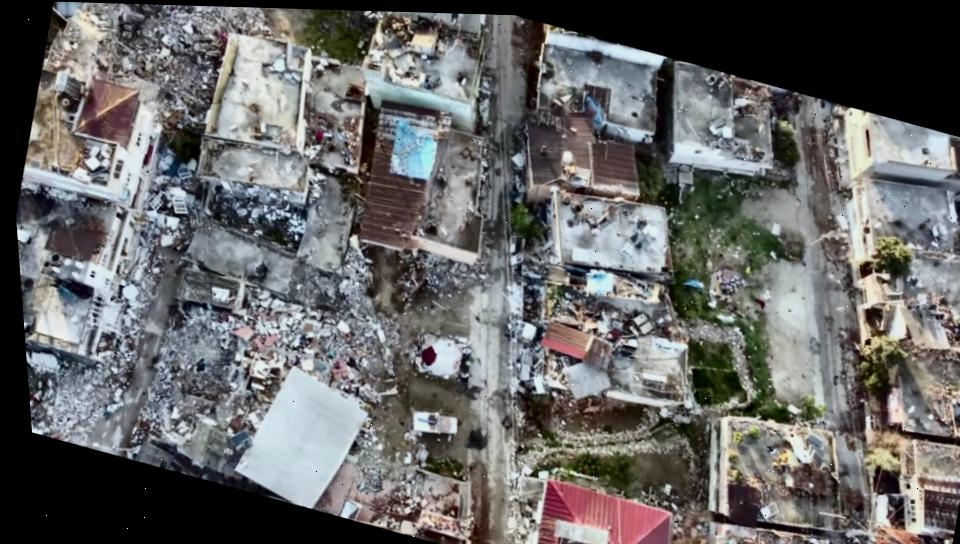kapali: (82, 6, 262, 457)
